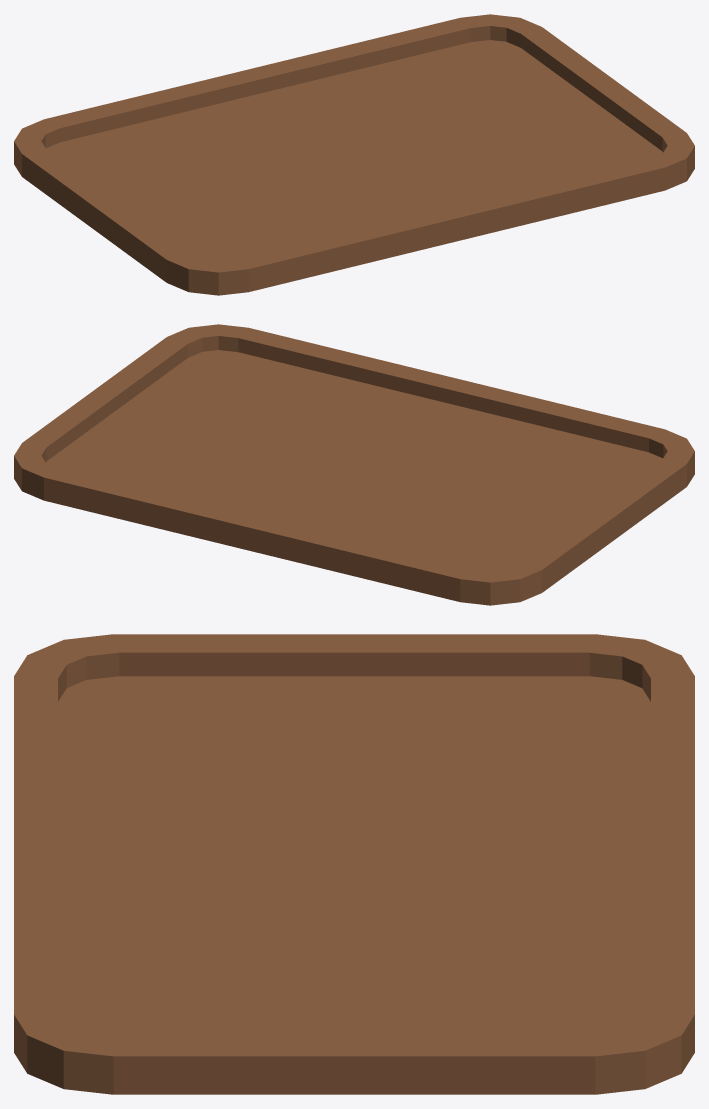
File: Tray.fbx
3 views of the same model, one above another, from view 1: azimuth 30°, elevation 25°; view 2: azimuth 150°, elevation 25°; view 3: azimuth 270°, elevation 25° (orthographic). The views are drawn at different scales.
Visible parts, largest first — view 1: Plane.006; view 2: Plane.006; view 3: Plane.006.
Boxes of the visible parts, box(x1,y1,x2,y2) form: Plane.006: box(14, 14, 694, 295); Plane.006: box(14, 324, 694, 605); Plane.006: box(14, 634, 694, 1094).
Size of the model in its own units: 84.07 by 3.56 by 57.3.
